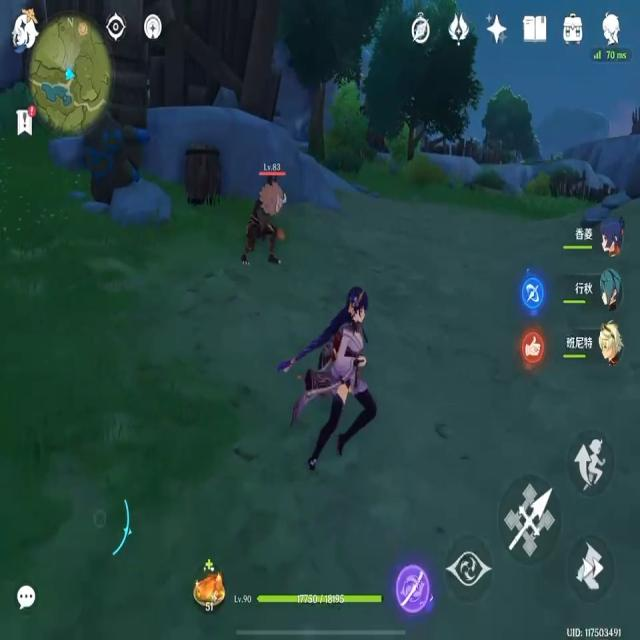genshin-hilichurls: (248, 180, 288, 272)
